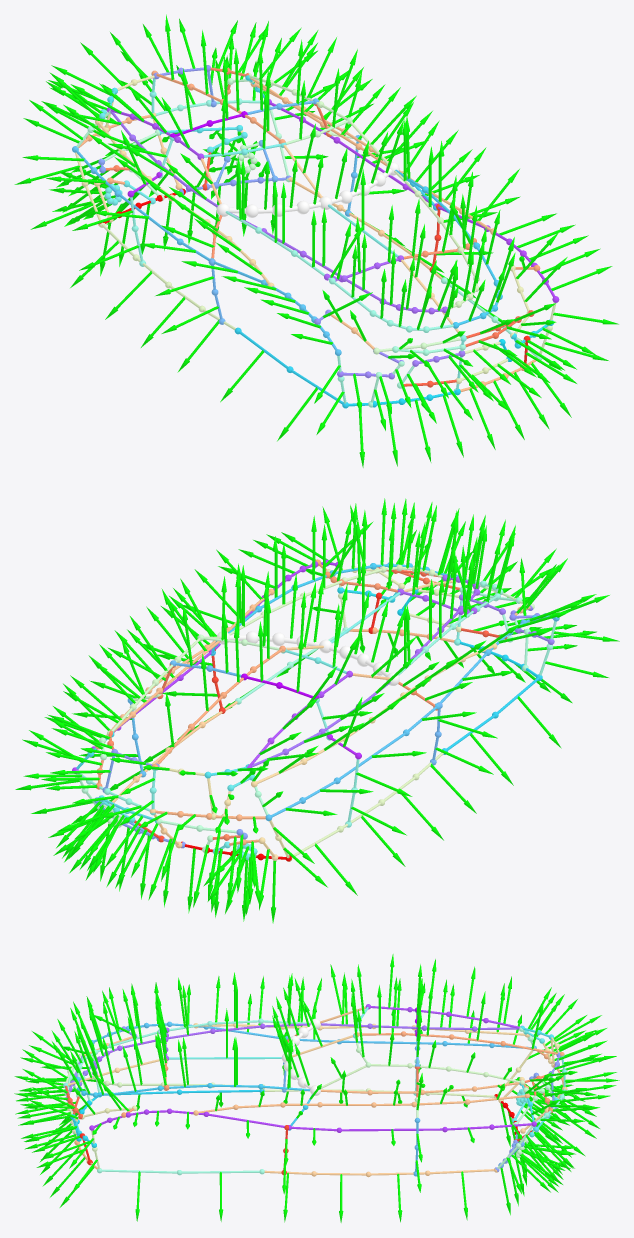
File: ils_car1.gltf
3 renders of one model, top to bottom at view 1: azimuth 30°, elevation 25°; view 2: azimuth 150°, elevation 25°; view 3: azimuth 270°, elevation 25°, orthographic. The views are drawn at different scales.
Bounding box in the file's own units: 0.5768 × 0.3956 × 1.1.
